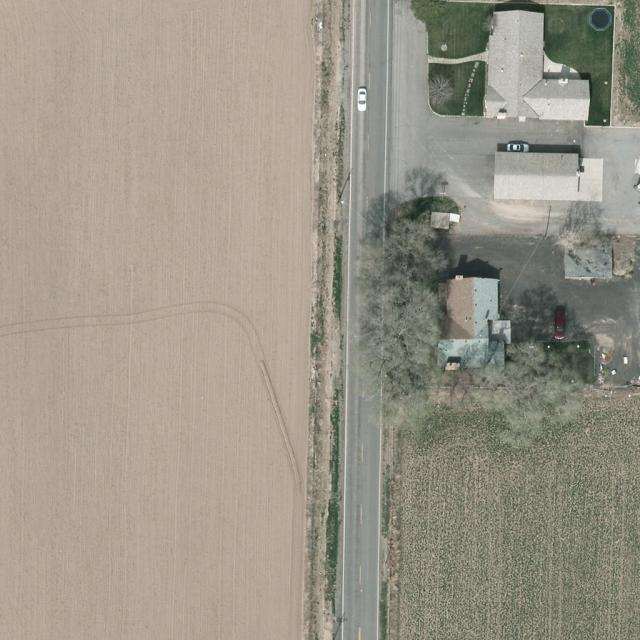vehicle: (555, 308, 566, 340), (357, 86, 367, 112), (506, 143, 531, 152)
